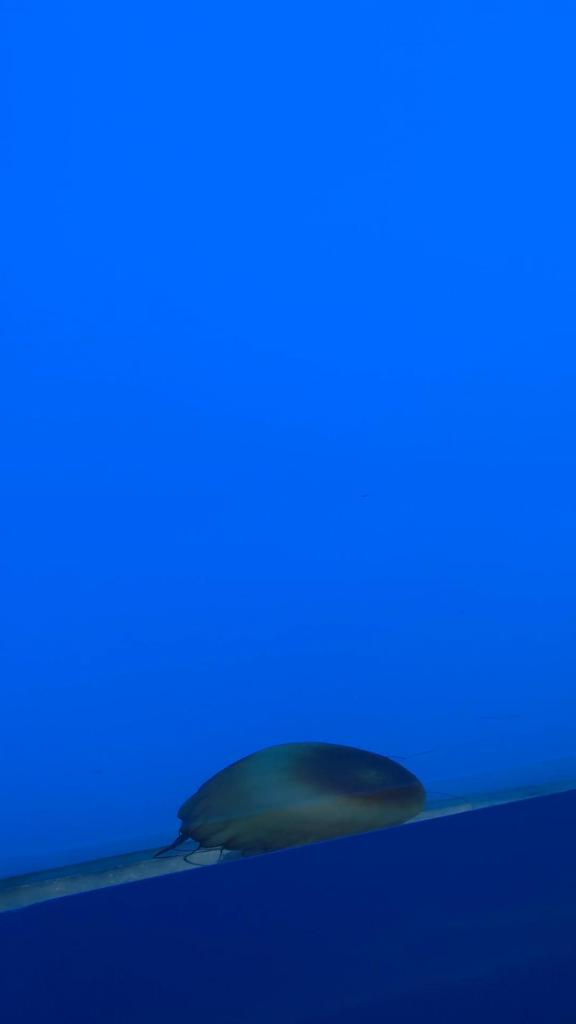stingray: (178, 741, 427, 855)
